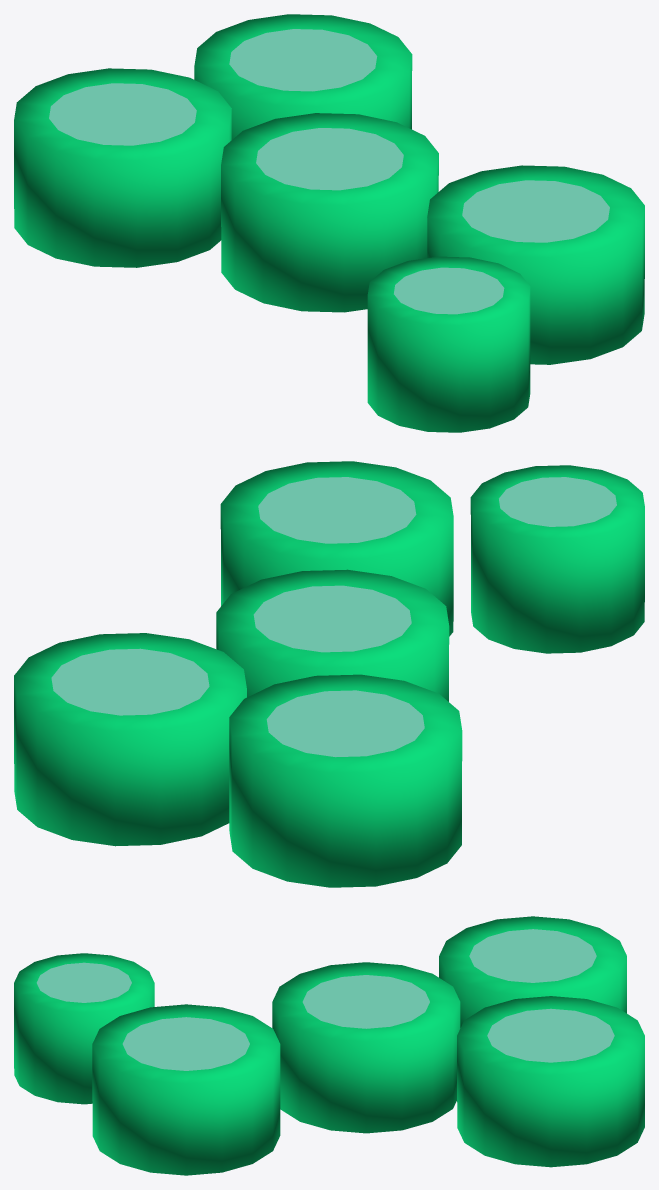
Rendered from Carrot - Chopped.fbx.
The picture shows the model from 3 angles, top to bottom: view 1: azimuth 30°, elevation 25°; view 2: azimuth 150°, elevation 25°; view 3: azimuth 270°, elevation 25°; orthographic projection. The views are drawn at different scales.
Visible parts, largest first — view 1: Carrot___Chopped; view 2: Carrot___Chopped; view 3: Carrot___Chopped.
Part boxes in pixels (<box>): Carrot___Chopped: <box>14,14,644,432</box>; Carrot___Chopped: <box>14,461,644,887</box>; Carrot___Chopped: <box>14,916,644,1175</box>.
Bounding box in the file's own units: 28.04 × 7.2 × 44.68.
